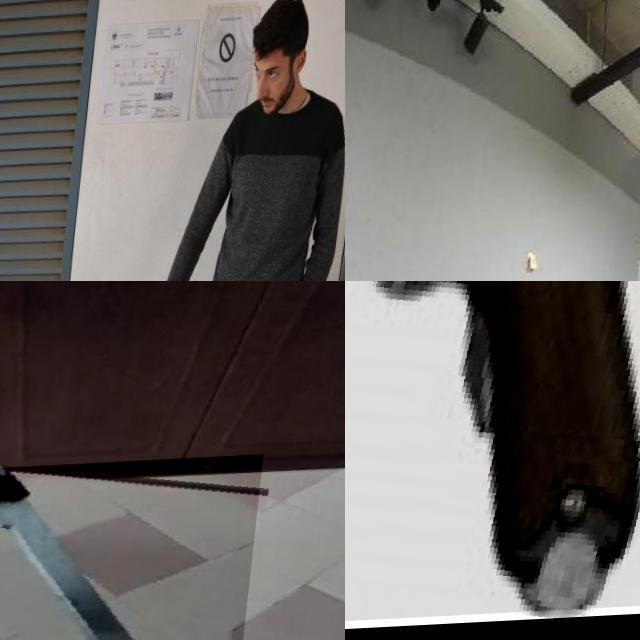-: (0, 459, 269, 640)
gun-knife-thesis - v11 Yolov5 augmented: (345, 281, 640, 635)
